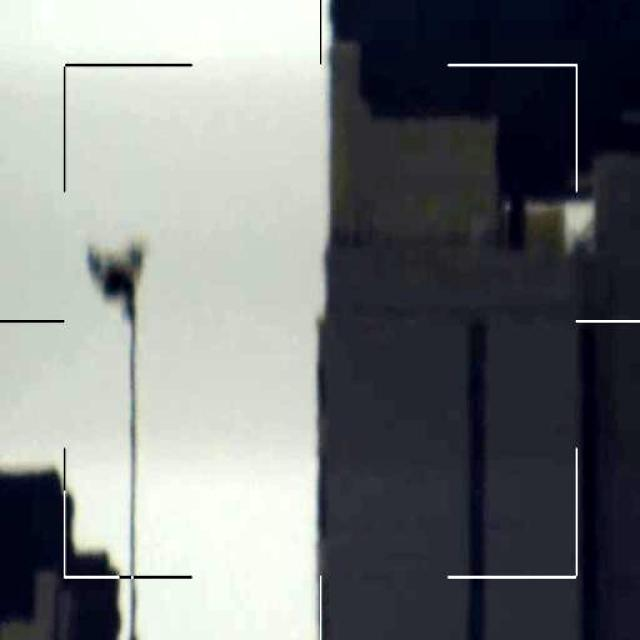bird: (84, 231, 148, 319)
